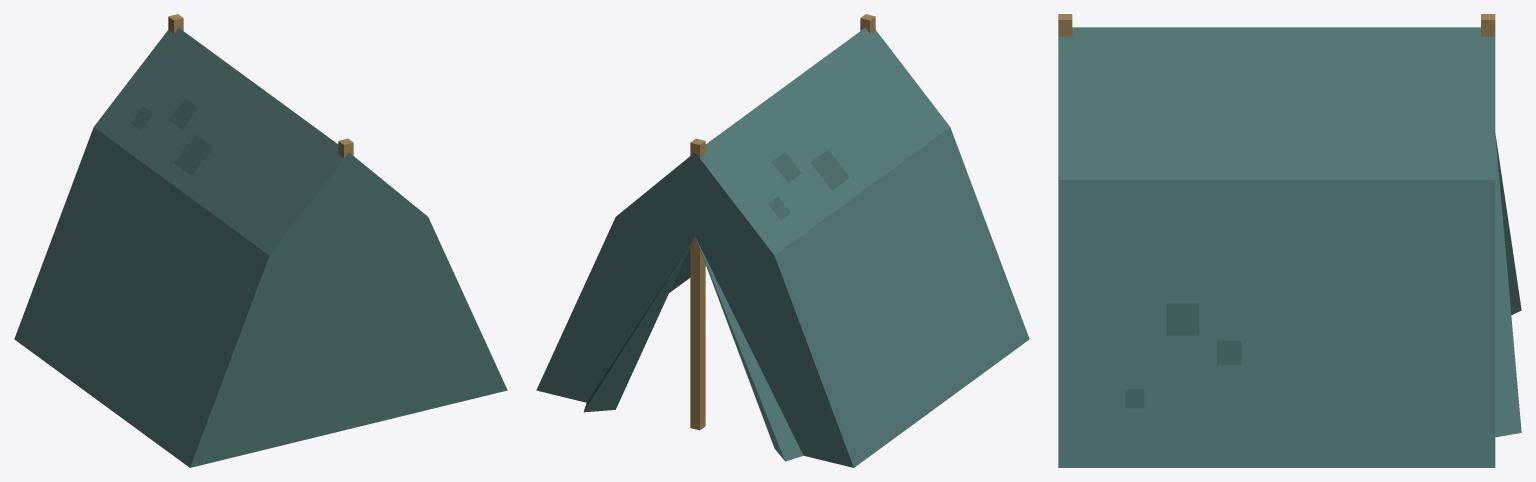
The model's file is naturePack_076.fbx.
3 views of the same model, side by side, from view 1: azimuth 30°, elevation 25°; view 2: azimuth 150°, elevation 25°; view 3: azimuth 270°, elevation 25° (orthographic). The views are drawn at different scales.
Parts seen in each view (by area): view 1: Mesh1_Group1 Model; view 2: Mesh1_Group1 Model; view 3: Mesh1_Group1 Model.
Boxes of the visible parts, <box> form: Mesh1_Group1 Model: <box>14,14,507,467</box>; Mesh1_Group1 Model: <box>536,14,1029,467</box>; Mesh1_Group1 Model: <box>1058,14,1521,467</box>.
Bounding box in the file's own units: 3.36 × 2.88 × 3.42.
